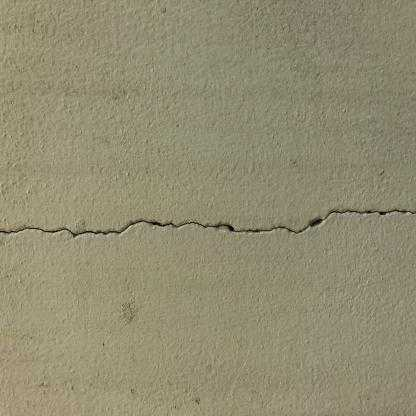crack: (1, 207, 415, 239)
